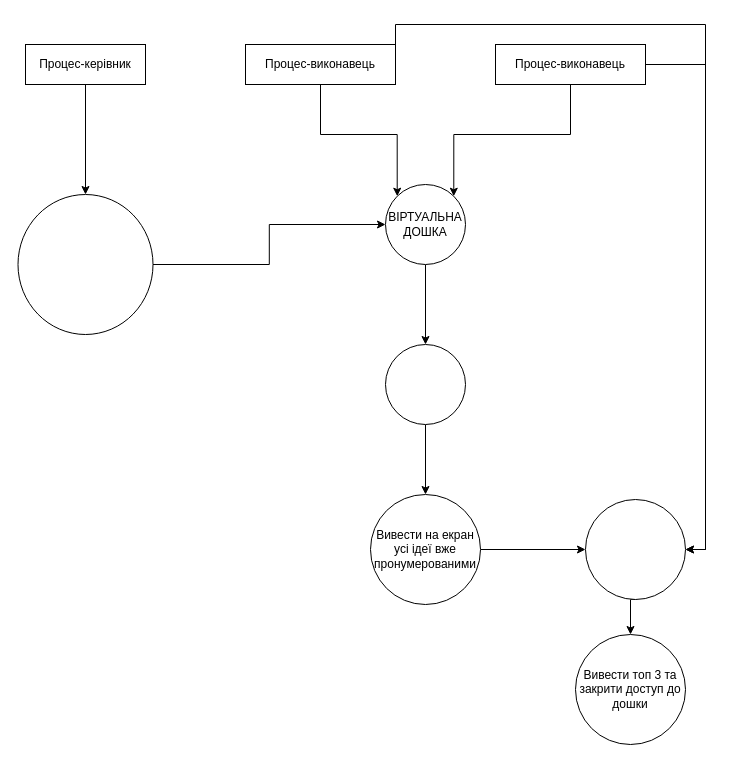
Image size: 731x762. Some labels were removed from this diagram. Each missing label, with the box of its shape:
Голосування за 3 найкращі ідеї: (584, 498, 686, 600)
кінець таймеру: (384, 344, 466, 424)
Створює віртуальну дошку. Засікається таймер Х хвилин на виконання завдання: (17, 194, 153, 334)
